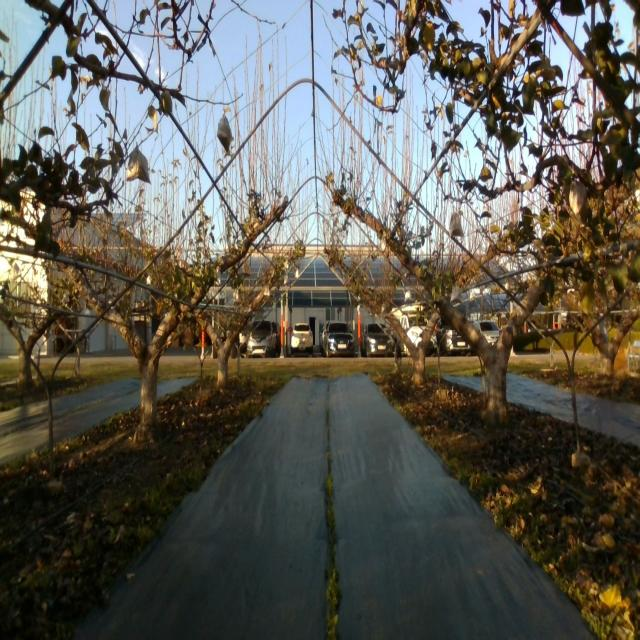pearbags: (127, 146, 151, 184), (569, 180, 588, 223), (217, 115, 233, 152), (449, 212, 464, 237), (450, 286, 463, 304)
